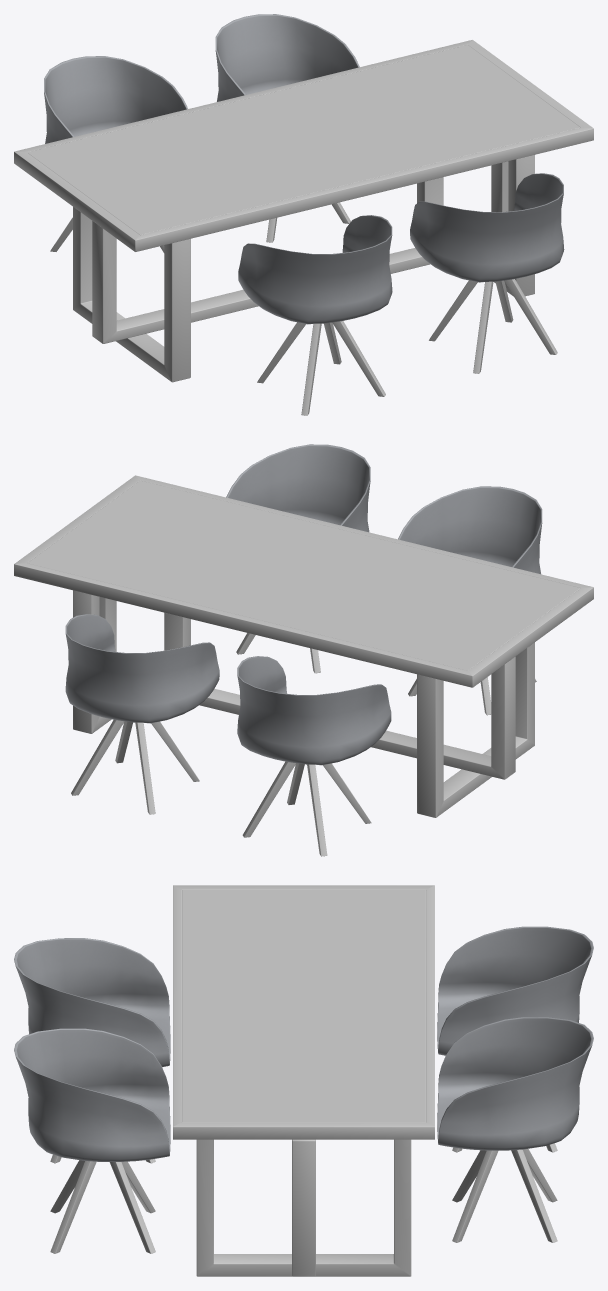
The model's file is MidTable.fbx.
3 renders of one model, top to bottom at view 1: azimuth 30°, elevation 25°; view 2: azimuth 150°, elevation 25°; view 3: azimuth 270°, elevation 25°, orthographic. The views are drawn at different scales.
Visible parts, largest first — view 1: SEATG; view 2: SEATG; view 3: SEATG.
Part boxes in pixels (x1=…): SEATG: x1=14, y1=14, x2=593, y2=415; SEATG: x1=14, y1=444, x2=593, y2=856; SEATG: x1=14, y1=885, x2=593, y2=1276.
Size of the model in its own units: 240 by 84.4 by 243.
